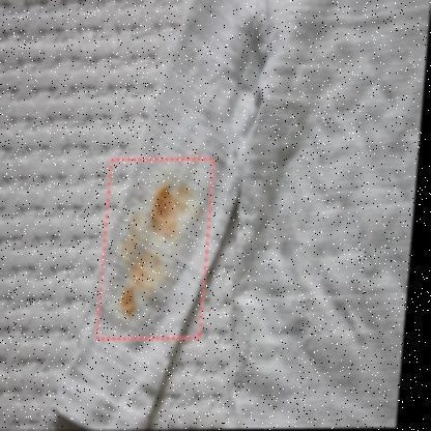kimchi: (120, 172, 197, 326)
